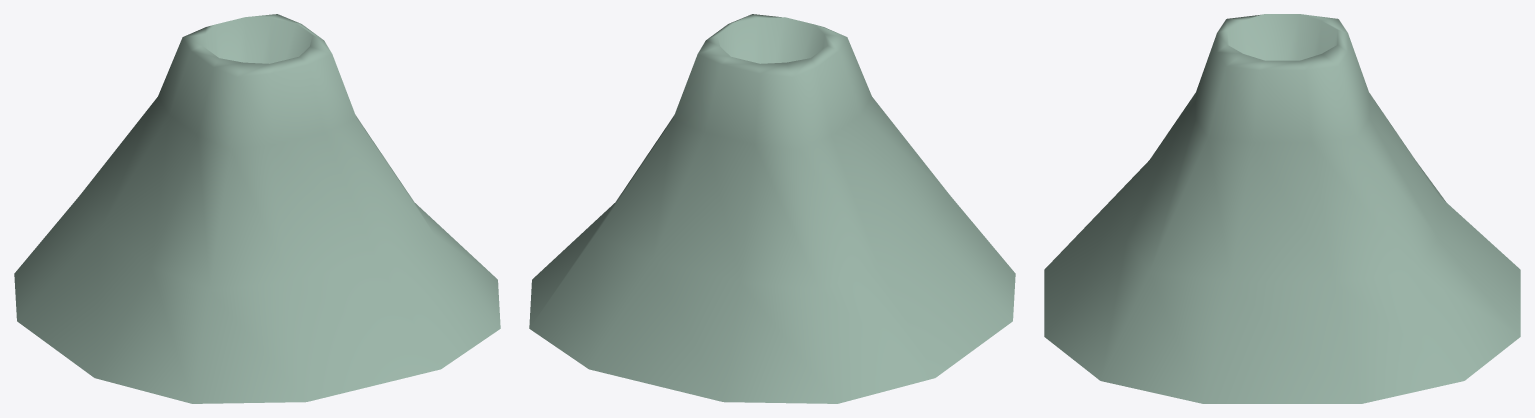
Rendered from MOD_Geyser.fbx.
The picture shows the model from 3 angles, left to right: view 1: azimuth 30°, elevation 25°; view 2: azimuth 150°, elevation 25°; view 3: azimuth 270°, elevation 25°; orthographic projection. The views are drawn at different scales.
Parts seen in each view (by area): view 1: mod_geyser; view 2: mod_geyser; view 3: mod_geyser.
Part boxes in pixels (x1,y1,x2,y2): mod_geyser: [14, 14, 500, 403]; mod_geyser: [529, 14, 1015, 403]; mod_geyser: [1044, 14, 1520, 403].
Size of the model in its own units: 199 by 123 by 199.
